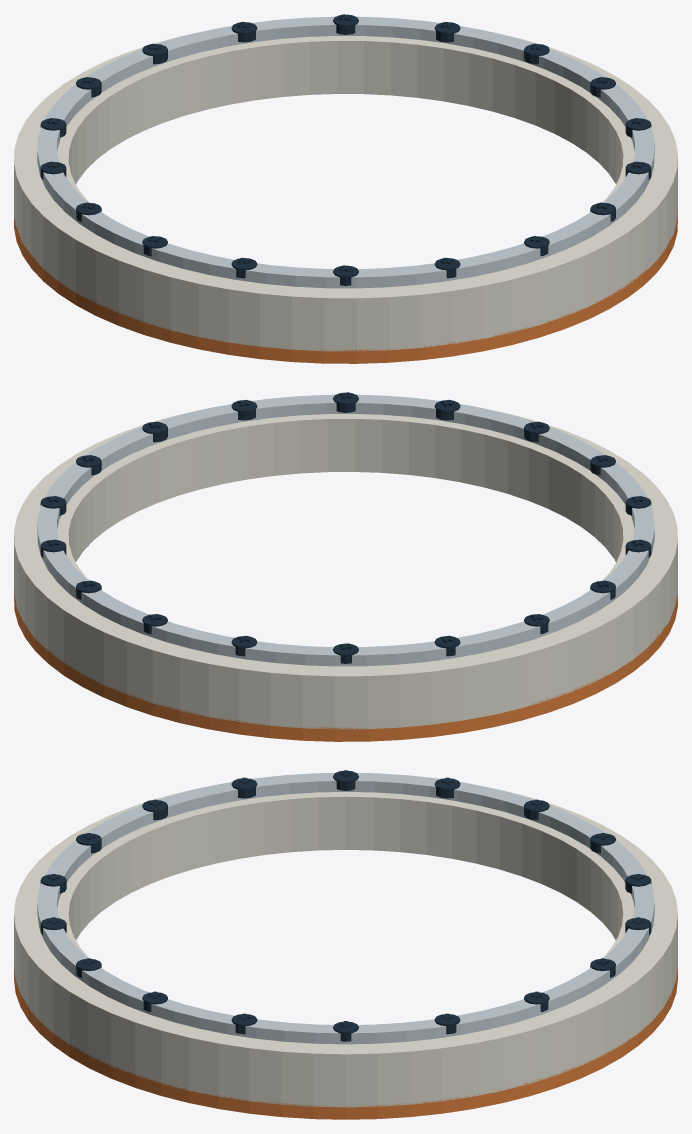
Rendered from 08_L73_WaferRetainingRing.fbx.
3 views of the same model, one above another, from view 1: azimuth 30°, elevation 25°; view 2: azimuth 150°, elevation 25°; view 3: azimuth 270°, elevation 25° (orthographic).
Visible parts, largest first — view 1: WaferRetainingRing_Part_0000, WaferRetainingRing_Part_0002, WaferRetainingRing_Part_0001; view 2: WaferRetainingRing_Part_0000, WaferRetainingRing_Part_0002, WaferRetainingRing_Part_0001; view 3: WaferRetainingRing_Part_0000, WaferRetainingRing_Part_0002, WaferRetainingRing_Part_0001.
Boxes of the visible parts, <box> form: WaferRetainingRing_Part_0000: <box>14,30,677,351</box>; WaferRetainingRing_Part_0002: <box>37,16,654,288</box>; WaferRetainingRing_Part_0001: <box>14,211,677,363</box>; WaferRetainingRing_Part_0000: <box>14,408,677,729</box>; WaferRetainingRing_Part_0002: <box>37,394,654,666</box>; WaferRetainingRing_Part_0001: <box>14,589,677,741</box>; WaferRetainingRing_Part_0000: <box>14,789,677,1107</box>; WaferRetainingRing_Part_0002: <box>37,773,654,1044</box>; WaferRetainingRing_Part_0001: <box>14,967,677,1119</box>.
Size of the model in its own units: 170 by 22.95 by 170.
